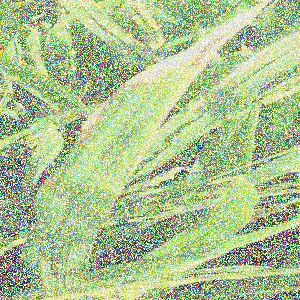Leaf_Blast: (85, 60, 179, 217)
